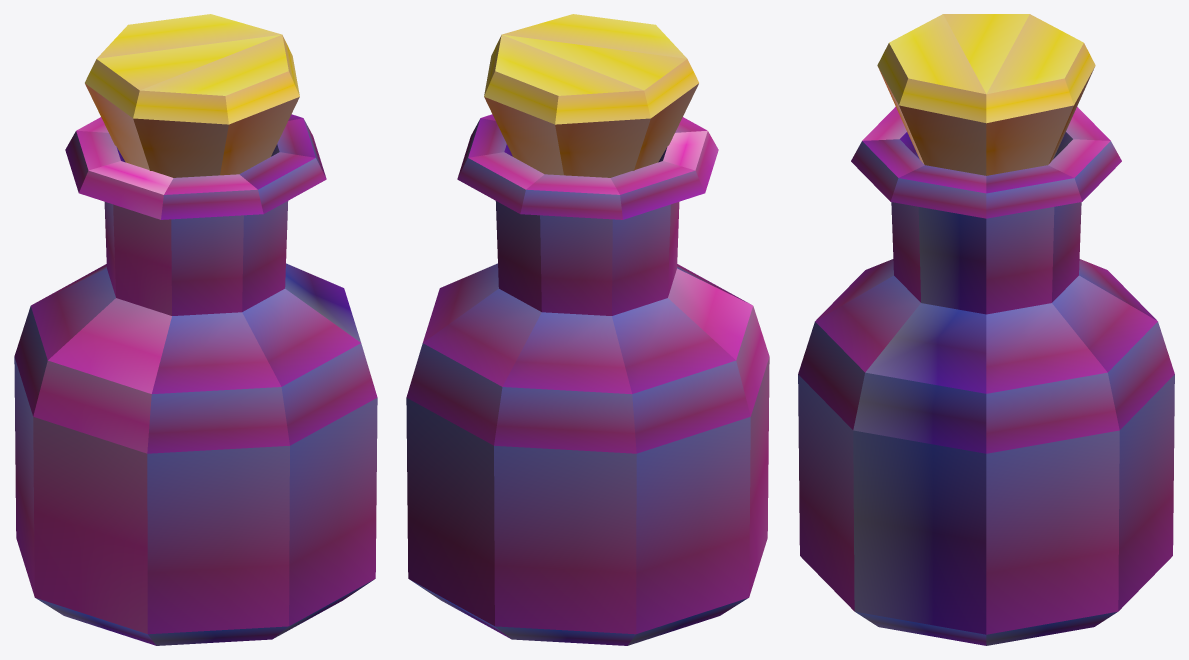
Rendered from vile03.fbx.
3 views of the same model, side by side, from view 1: azimuth 30°, elevation 25°; view 2: azimuth 150°, elevation 25°; view 3: azimuth 270°, elevation 25° (orthographic).
Parts seen in each view (by area): view 1: vile, vileCork; view 2: vile, vileCork; view 3: vile, vileCork.
Boxes of the visible parts, x1,y1,x2,y2 form: vile: (14, 114, 377, 645); vileCork: (85, 14, 299, 177); vile: (406, 114, 769, 645); vileCork: (484, 14, 698, 177); vile: (798, 106, 1174, 645); vileCork: (877, 14, 1095, 175).
Bounding box in the file's own units: 69.29 × 107 × 69.29.
